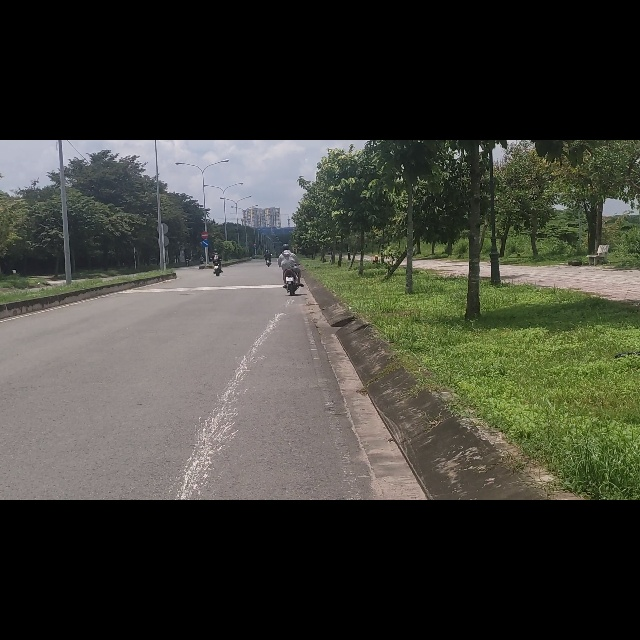bien_cam: (202, 177, 210, 191), (201, 162, 209, 175)
